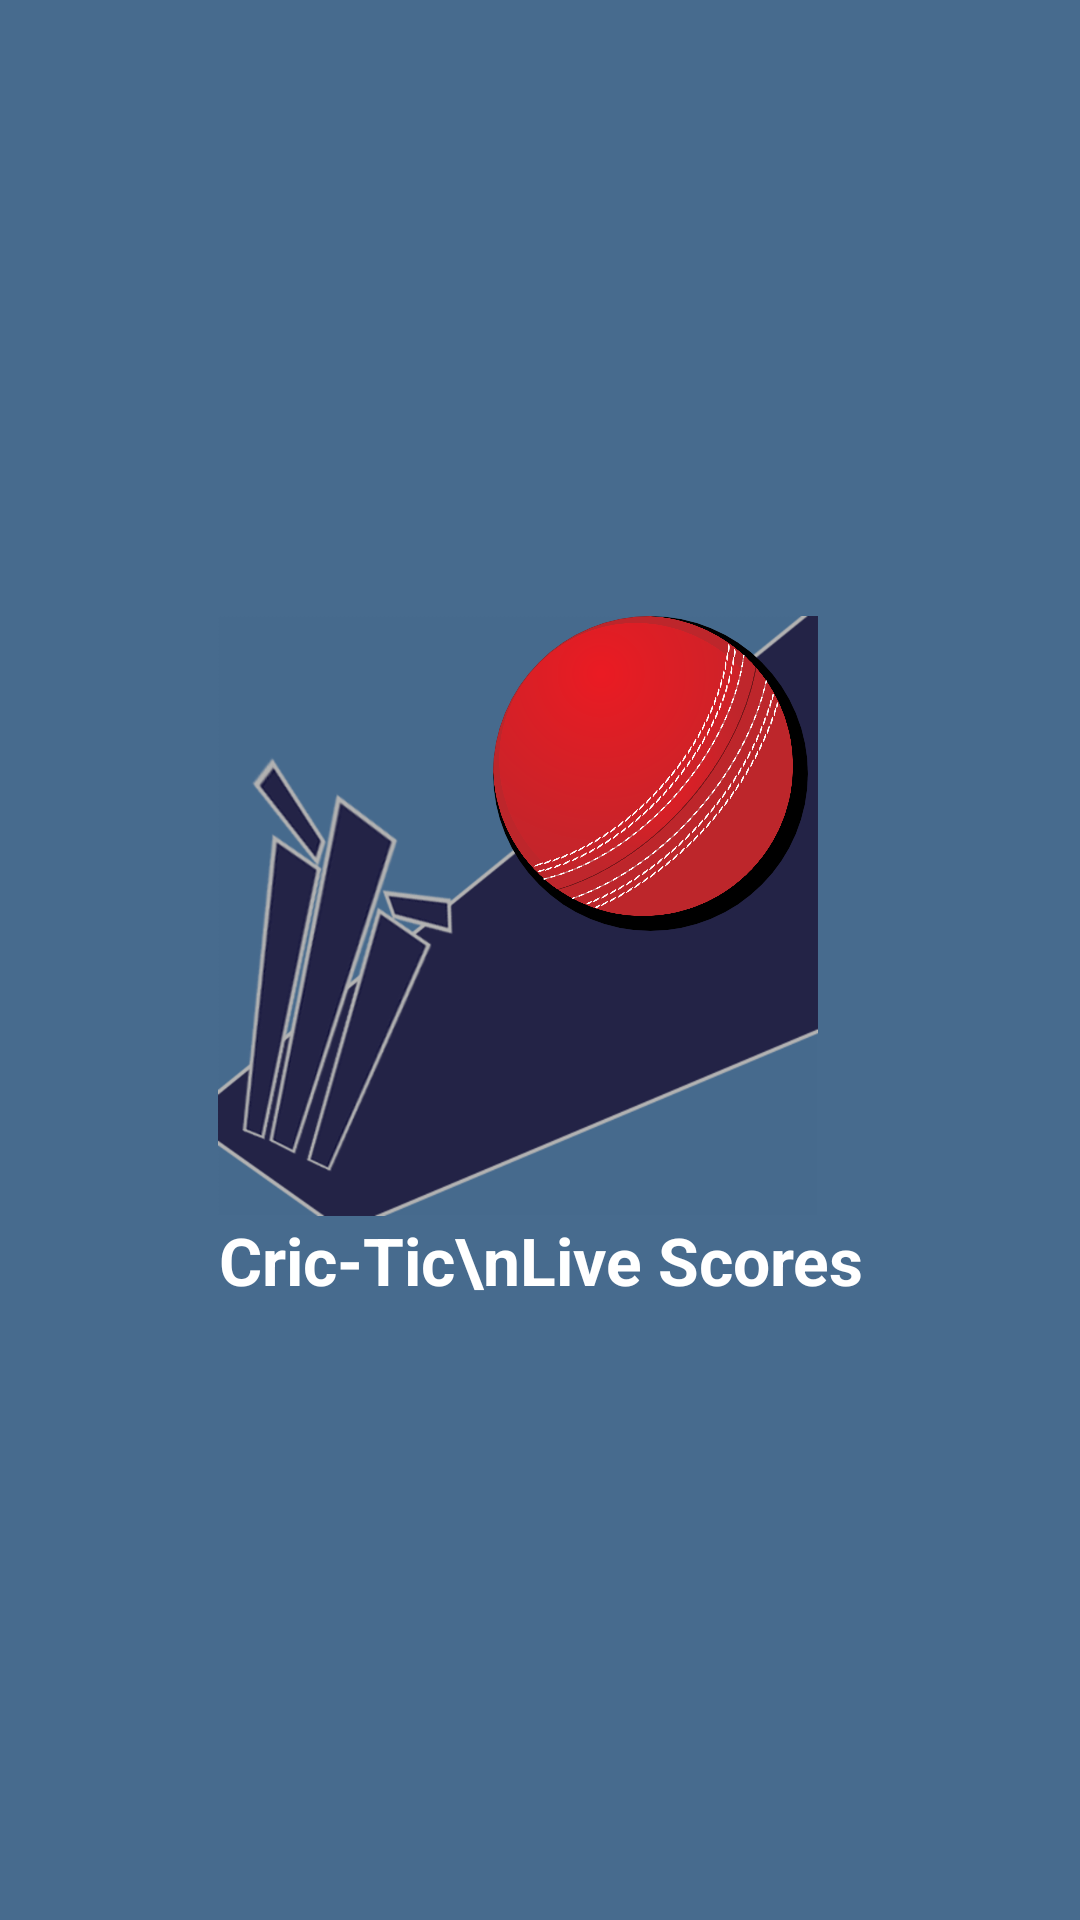

Screen size 1080 x 1920. Icon name, then its center in pixels as point (x, y):
ball: point (643, 766)
